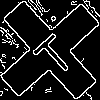T: (25, 25, 79, 80)
